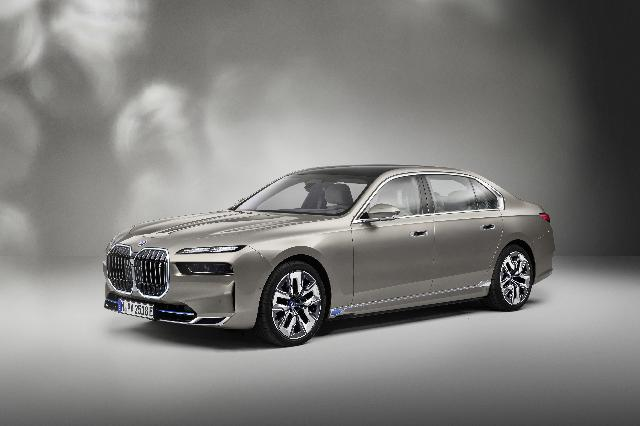bmw: (102, 164, 556, 348)
